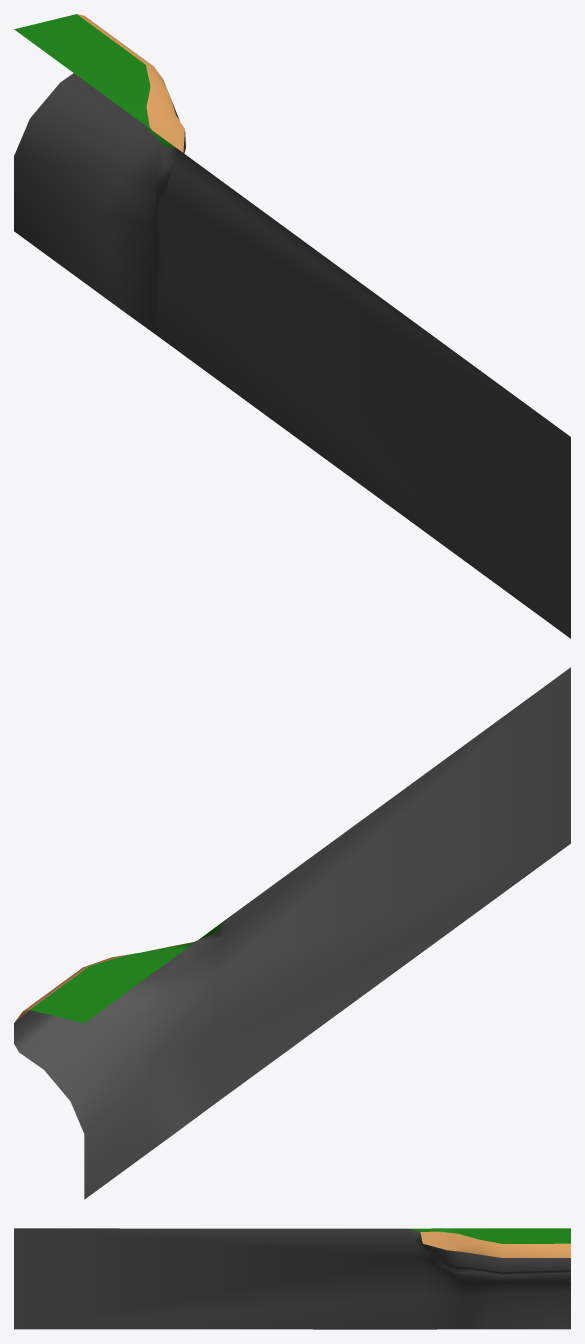
The model's file is Side-2.fbx.
The picture shows the model from 3 angles, top to bottom: view 1: azimuth 30°, elevation 25°; view 2: azimuth 150°, elevation 25°; view 3: azimuth 270°, elevation 25°; orthographic projection. The views are drawn at different scales.
Visible parts, largest first — view 1: Side-2, Side-2.002, Side-2.001; view 2: Side-2, Side-2.002; view 3: Side-2, Side-2.001, Side-2.002.
Part boxes in pixels (<box>): Side-2: <box>14,73,570,638</box>; Side-2.002: <box>14,14,176,148</box>; Side-2.001: <box>77,14,184,152</box>; Side-2: <box>14,667,570,1199</box>; Side-2.002: <box>30,919,226,1023</box>; Side-2: <box>14,1228,570,1329</box>; Side-2.001: <box>420,1231,570,1257</box>; Side-2.002: <box>409,1228,570,1243</box>.
Bounding box in the file's own units: 1.83 × 4 × 20.
